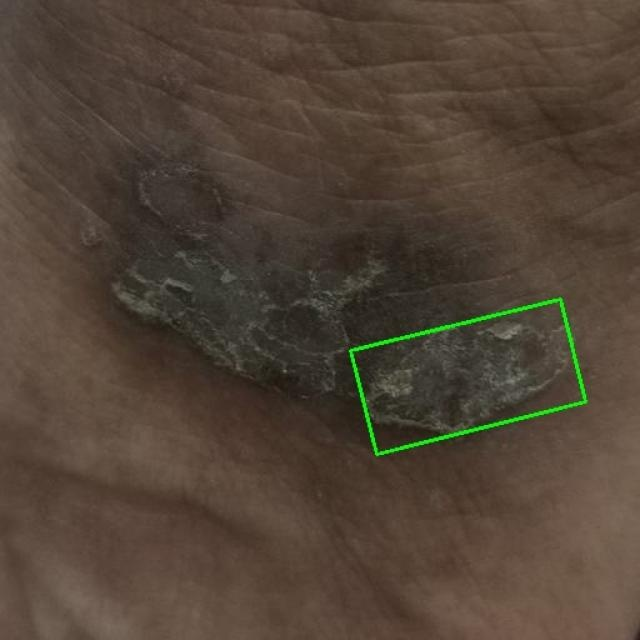Eczema: (351, 299, 586, 454)
